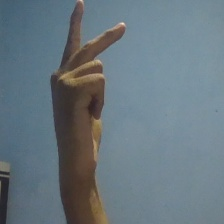K: (45, 1, 130, 180)
